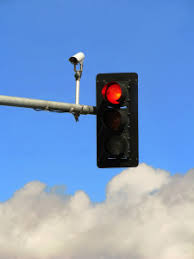traffic light: (88, 64, 154, 184)
